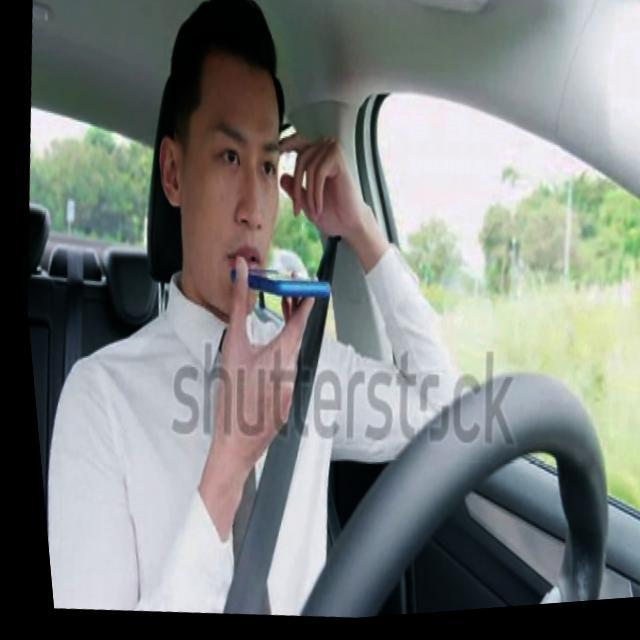PhoneCall: (218, 254, 330, 313)
